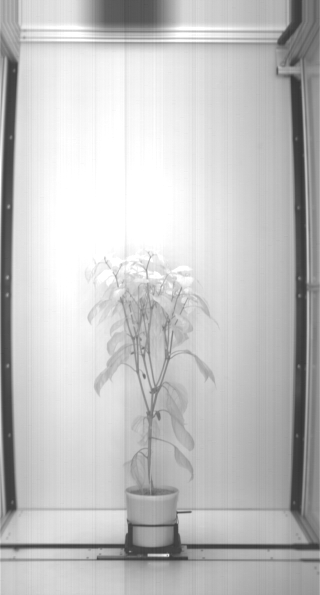bell-pepper fooled_you: (150, 384, 162, 393), (153, 410, 160, 420), (141, 371, 146, 381)
